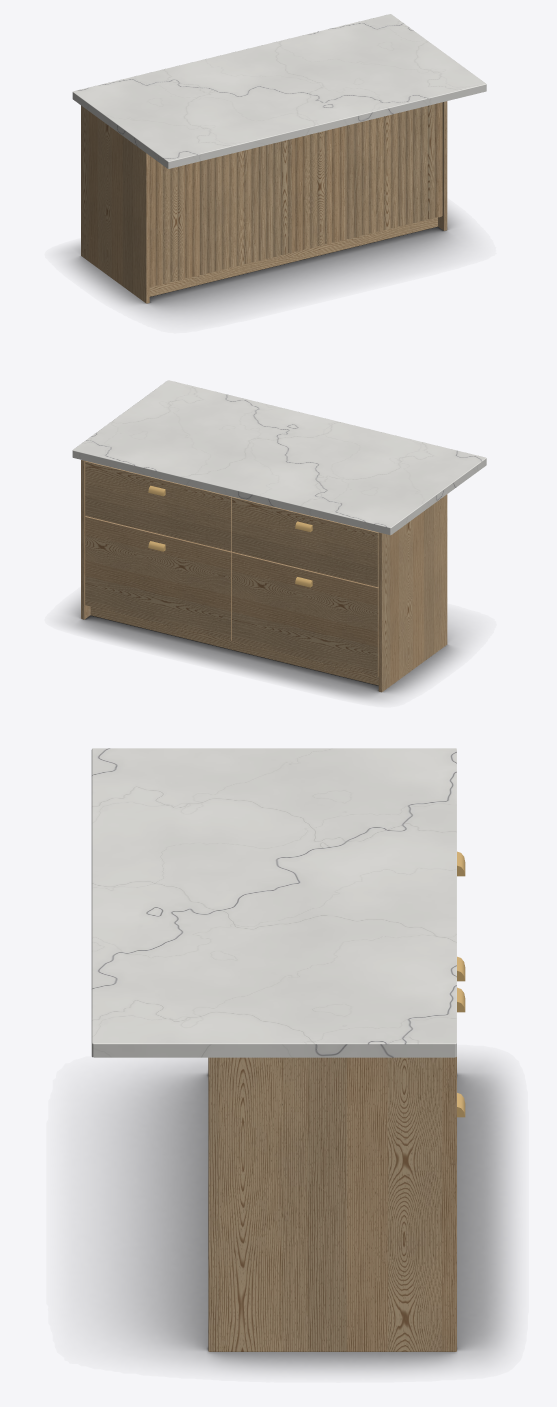
File: kitchen_island.glb
3 views of the same model, one above another, from view 1: azimuth 30°, elevation 25°; view 2: azimuth 150°, elevation 25°; view 3: azimuth 270°, elevation 25° (orthographic). The views are drawn at different scales.
Parts seen in each view (by area): view 1: kitchen_island_LOD0, kitchen_island_Shadow; view 2: kitchen_island_LOD0, kitchen_island_Shadow; view 3: kitchen_island_LOD0, kitchen_island_Shadow.
Part boxes in pixels (<box>): kitchen_island_LOD0: <box>72,14,486,303</box>; kitchen_island_Shadow: <box>65,211,462,315</box>; kitchen_island_LOD0: <box>72,380,486,692</box>; kitchen_island_Shadow: <box>66,599,462,699</box>; kitchen_island_LOD0: <box>91,748,465,1351</box>; kitchen_island_Shadow: <box>101,1060,510,1370</box>.
Size of what is drawn, in the model's own units: 2.2 by 0.9 by 1.36.
4 materials, 3 textured.
